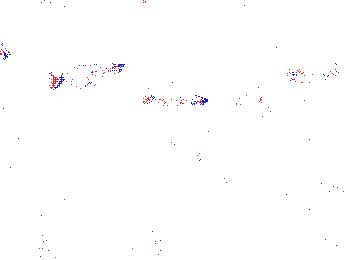X-ray fish: (137, 213, 164, 250)
glassfish: (177, 137, 263, 184)
red belly glassfish: (284, 63, 341, 83)
redtail glassfish: (31, 1, 155, 23), (43, 60, 128, 90), (138, 87, 209, 113), (1, 37, 13, 63)
